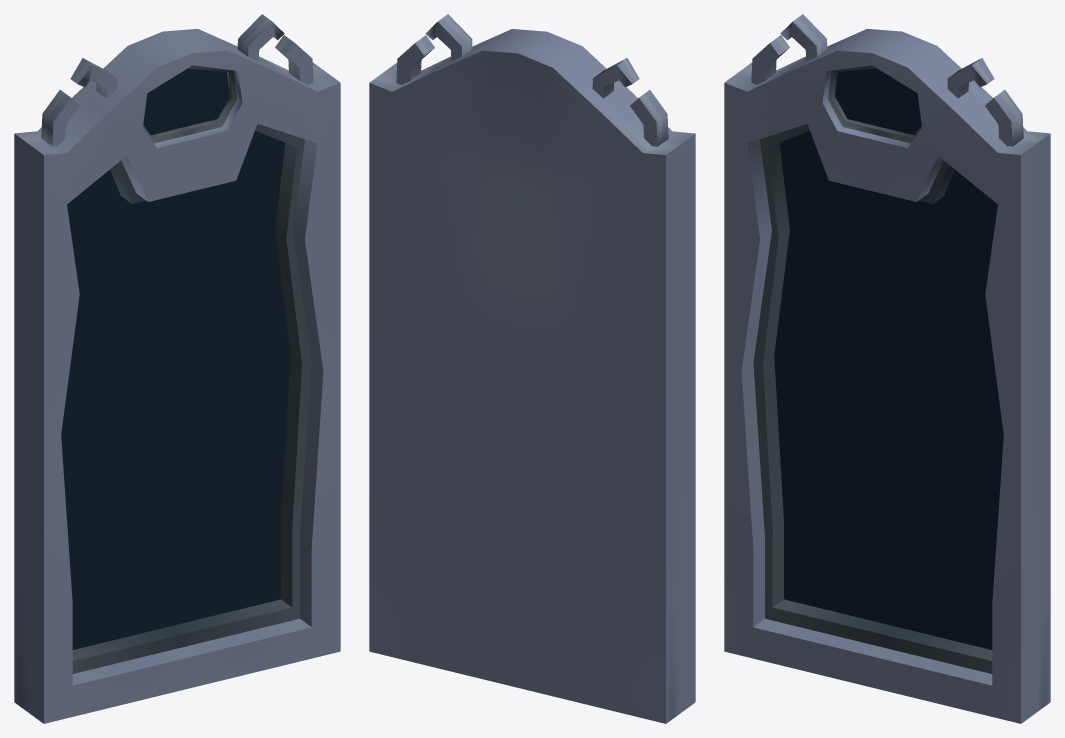
The model's file is Espelho.fbx.
3 renders of one model, left to right at view 1: azimuth 30°, elevation 25°; view 2: azimuth 150°, elevation 25°; view 3: azimuth 330°, elevation 25°, orthographic.
Visible parts, largest first — view 1: Espelho; view 2: Espelho; view 3: Espelho.
Part boxes in pixels (x1=…): Espelho: x1=14, y1=14, x2=340, y2=723; Espelho: x1=369, y1=14, x2=695, y2=723; Espelho: x1=724, y1=14, x2=1050, y2=723.
Bounding box in the file's own units: 231 × 40.73 × 474.
